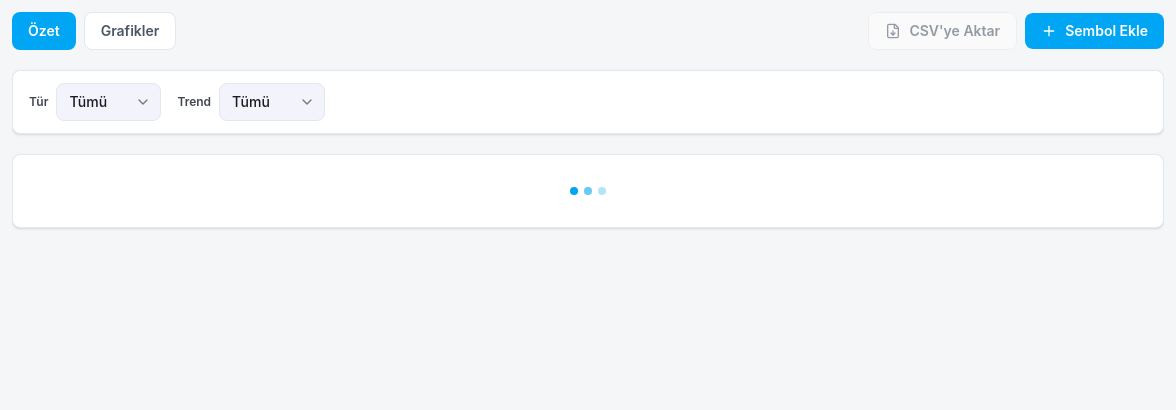
it: WatchlistDetail — tür ve trend filtreleri › Tür filtresi STOCK seçilince yalnız Hisseler kartı kalır
# "Tür" select'i (ilk combobox) → STOCK.
Select "Hisseler" in the dropdown next to "Tür": (109, 102) x1=56 y1=83 x2=161 y2=121
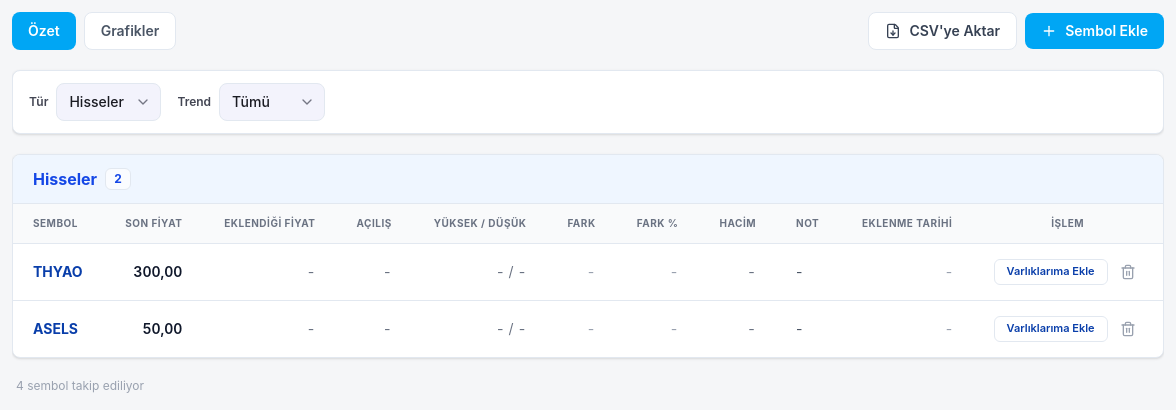
Expected: the heading "Hisseler 2" is shown, x1=33 y1=167 x2=131 y2=191
